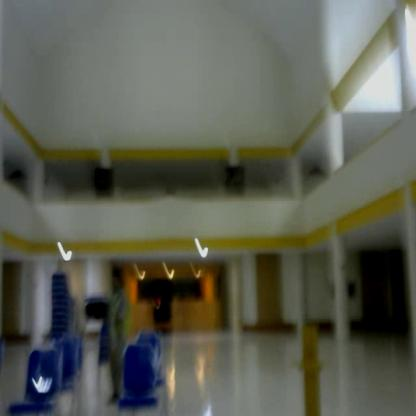pole: (294, 323, 334, 416)
